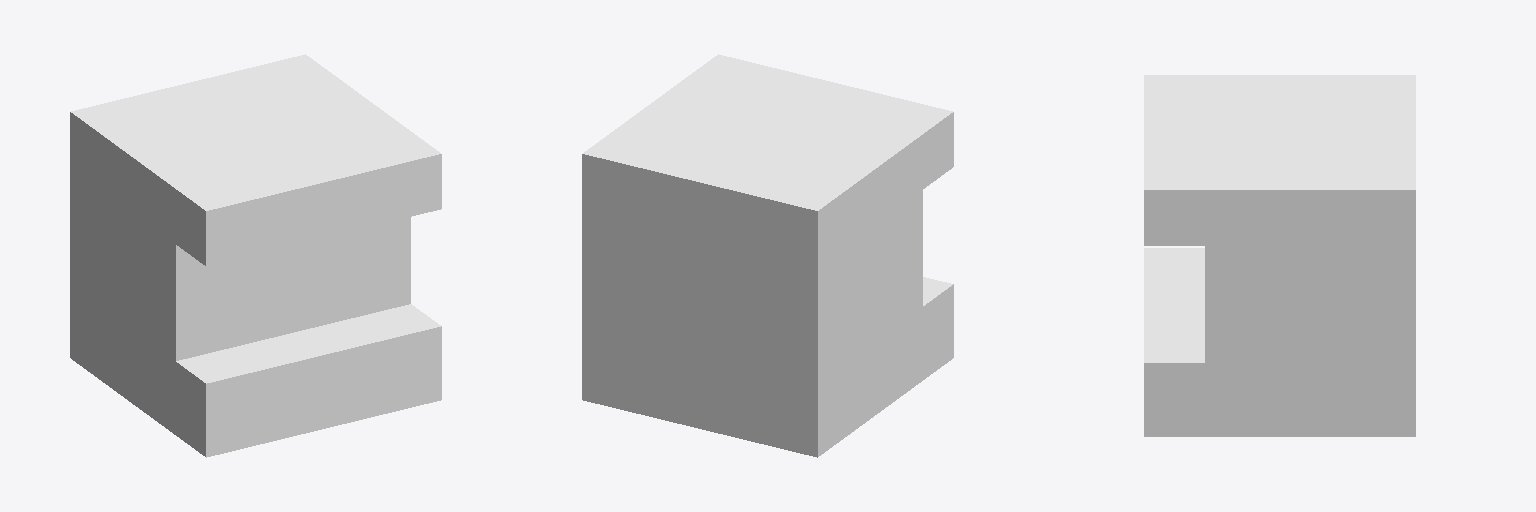
File: straight_Hallway_V4.obj
The picture shows the model from 3 angles: view 1: azimuth 30°, elevation 25°; view 2: azimuth 150°, elevation 25°; view 3: azimuth 270°, elevation 25°; orthographic projection.
Parts seen in each view (by area): view 1: straight_Hallway_V4; view 2: straight_Hallway_V4; view 3: straight_Hallway_V4.
Part boxes in pixels (x1,y1,x2,y2): straight_Hallway_V4: (70,54,441,457); straight_Hallway_V4: (582,54,953,457); straight_Hallway_V4: (1144,75,1415,436).
Bounding box in the file's own units: 40 × 40 × 40.